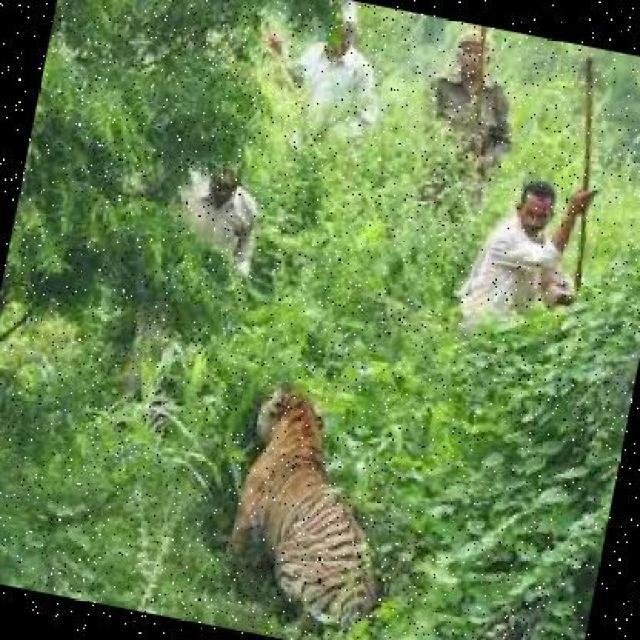p_active: (218, 382, 404, 616)
poacher: (431, 162, 618, 348), (275, 2, 380, 190), (418, 28, 524, 192), (163, 156, 269, 266)
